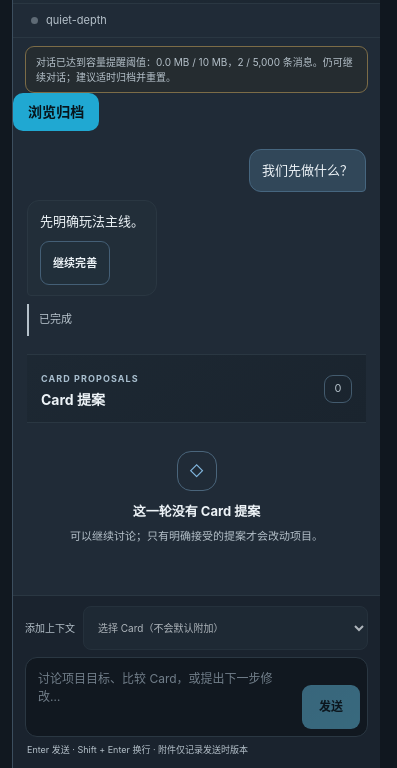
Test: ProjectConversationDrawer › 容量 warning 显示非阻塞提醒且仍允许发送
(page scrolled)
Expected: the message shows "10 MB", [189, 56, 237, 68]
Expected: the message shows "5,000 条消息", [36, 56, 353, 82]
Type "继续聊" into the text box named "发送给项目 AI 的消息" at x=164, y=697, box [33, 665, 294, 729]
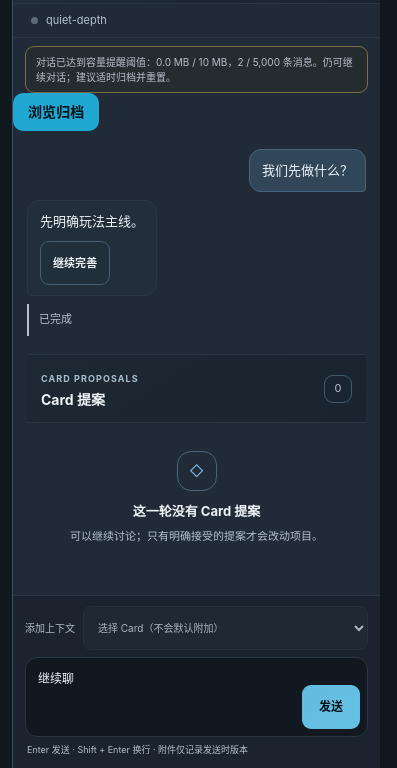
Now the button "发送" is enabled, box [302, 685, 360, 729]
